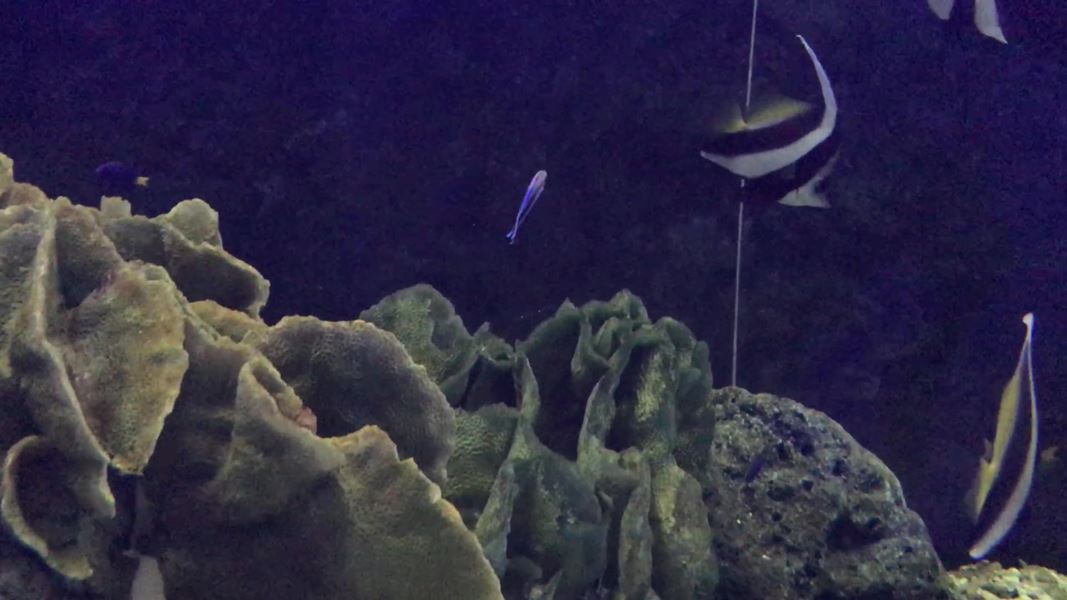Bluesteak cleaner wrasse: (503, 163, 556, 249)
